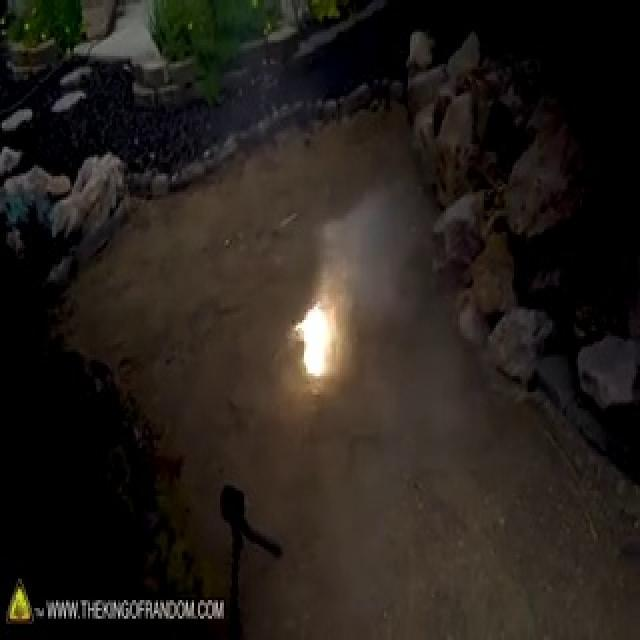fire: (294, 284, 340, 391)
